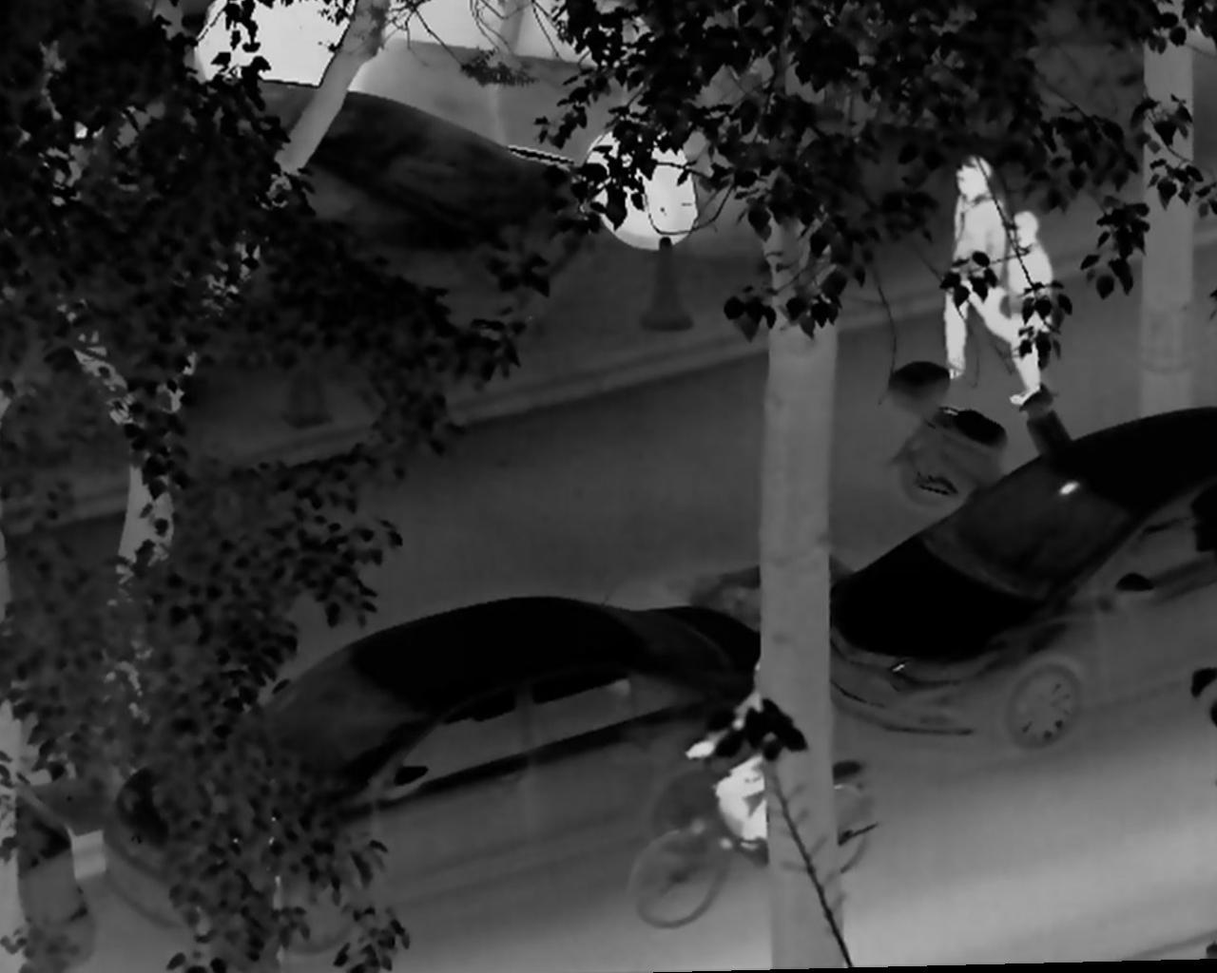person: (935, 150, 1037, 385), (686, 654, 781, 861), (999, 209, 1057, 408)
